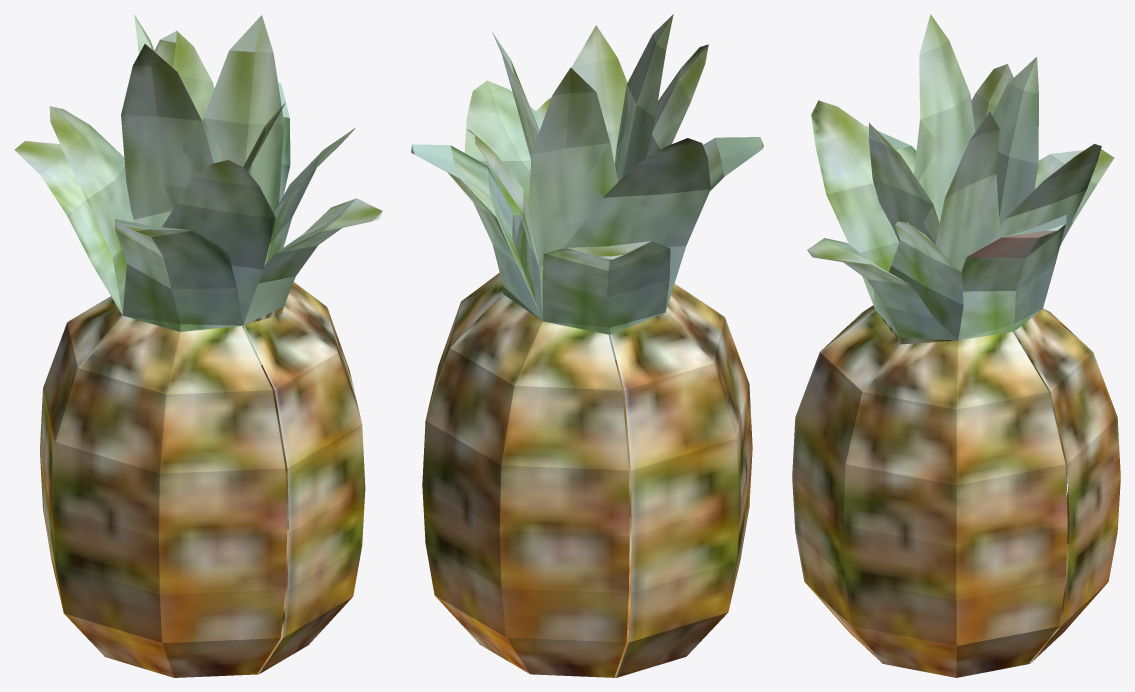
The model's file is pineapplehat.fbx.
3 views of the same model, side by side, from view 1: azimuth 30°, elevation 25°; view 2: azimuth 150°, elevation 25°; view 3: azimuth 270°, elevation 25° (orthographic). The views are drawn at different scales.
Visible parts, largest first — view 1: pineapplehat; view 2: pineapplehat; view 3: pineapplehat.
Boxes of the visible parts, x1,y1,x2,y2 form: pineapplehat: (14,14,382,677); pineapplehat: (411,14,763,677); pineapplehat: (792,14,1120,677).
Bounding box in the file's own units: 13.97 × 28.07 × 13.97.
